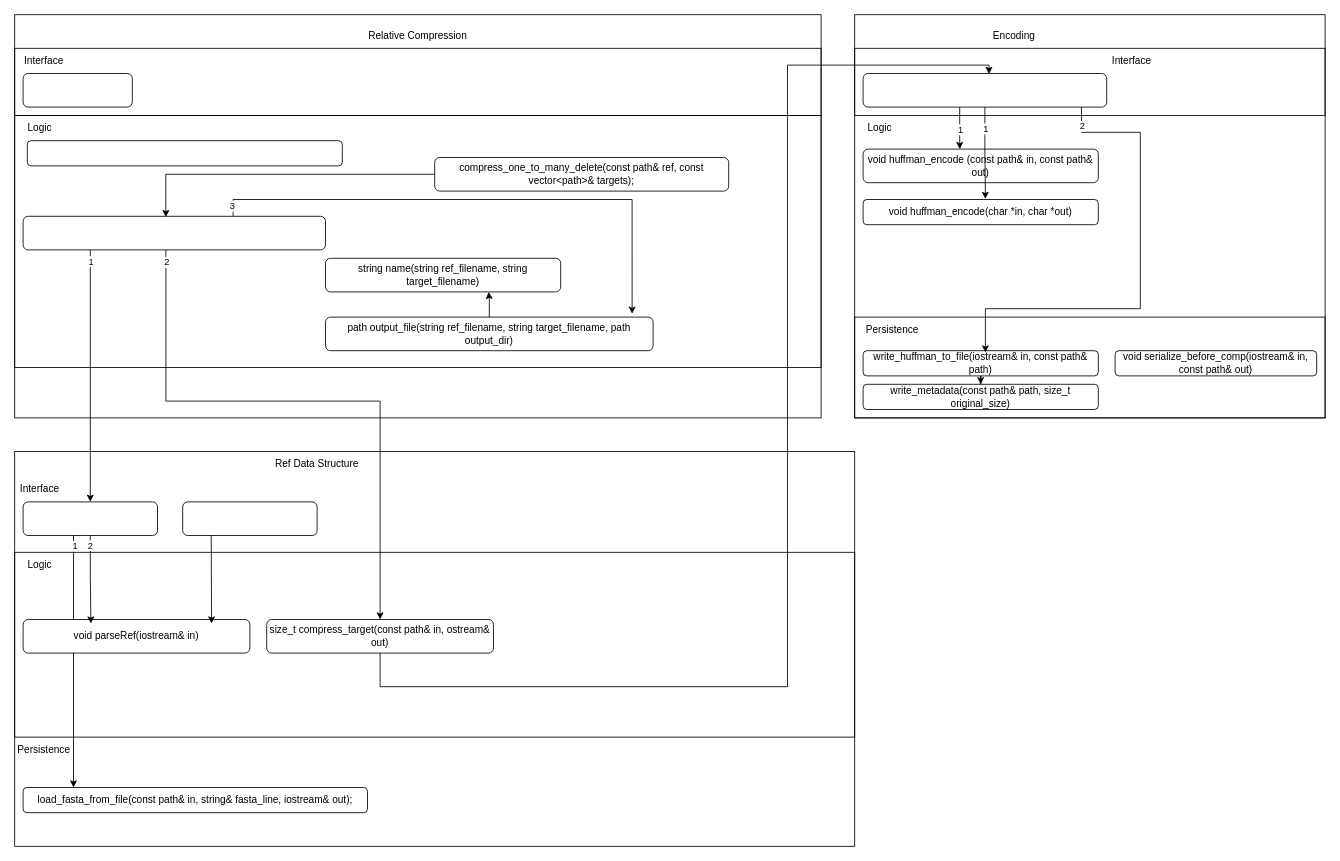
Image size: 1340x861. Some labels were removed from this diagram. Each missing label, with the box of its shape:
compress_one_to_many(const path& ref, const vector<path>& targets);: (22, 215, 326, 250)
main: exec: (22, 73, 132, 107)
RefDS(const path& path);: (22, 501, 158, 536)
RefDS(iostream& in);: (182, 501, 317, 536)
size_t compress_dataset(vector<path>& files, Arborescence& arb): (26, 140, 342, 166)
size_t encode_to_file (iostream& in, const path& out_file): (862, 73, 1107, 107)
